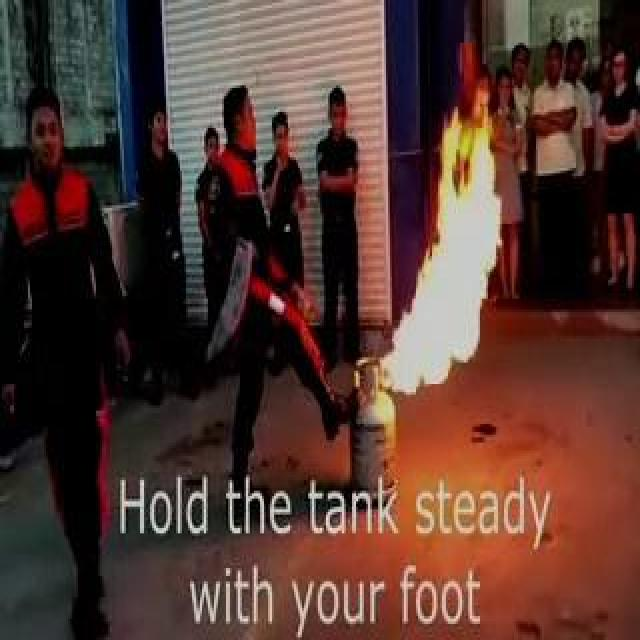Smoke: (382, 73, 486, 428)
